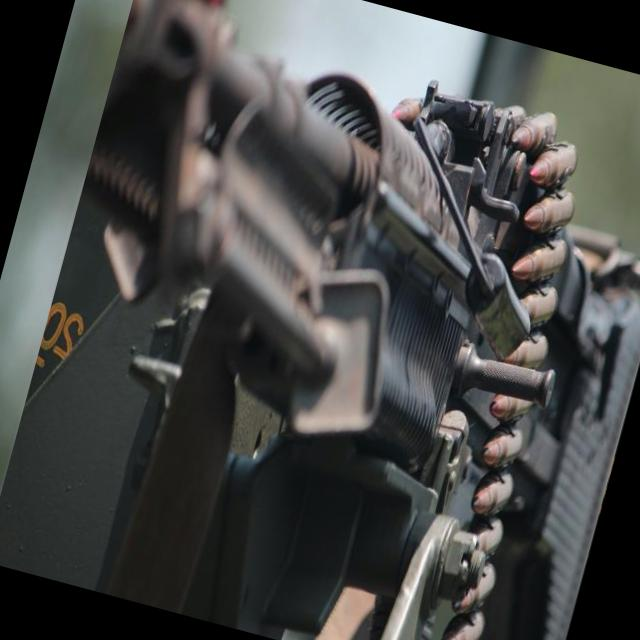Gun: (82, 0, 640, 640)
